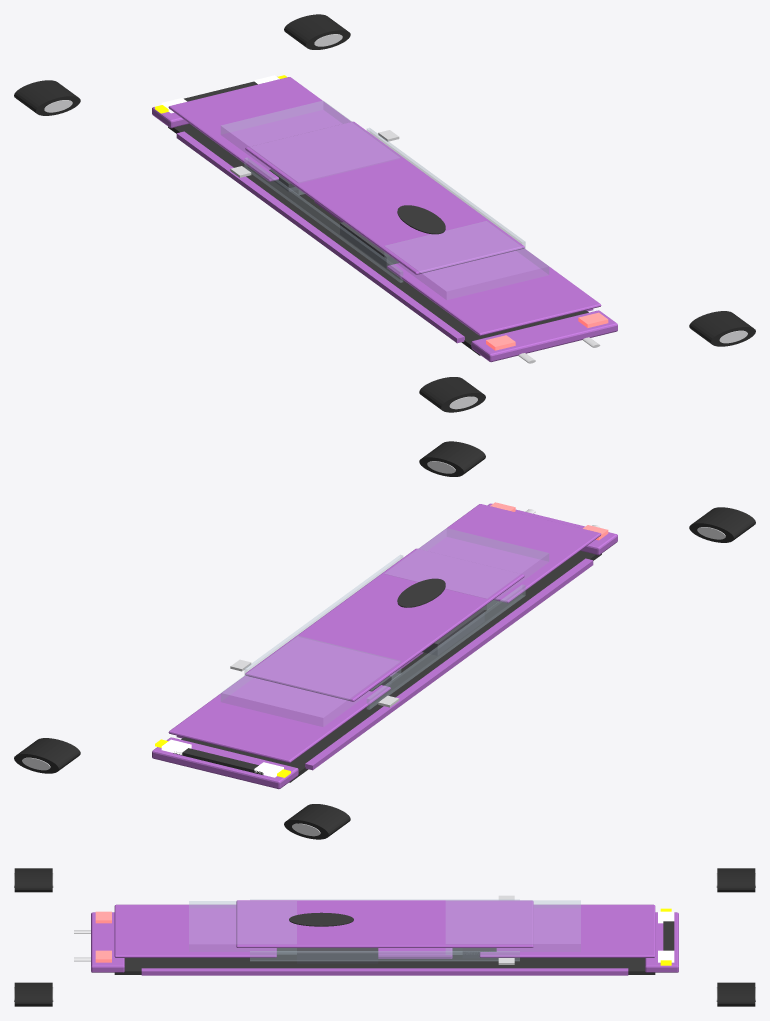
File: racer.glb
The picture shows the model from 3 angles, top to bottom: view 1: azimuth 30°, elevation 25°; view 2: azimuth 150°, elevation 25°; view 3: azimuth 270°, elevation 25°; orthographic projection. The views are drawn at different scales.
Parts seen in each view (by area): view 1: Roof, Trunk, Glass, Hood, RearGlass, Chassis, Skirt_L, Bumper_R, SideGlass_L, Wheel_FR, Wheel_FL, Wheel_RR (+4 smaller); view 2: Roof, Hood, Glass, Trunk, RearGlass, Chassis, Skirt_L, Bumper_F, SideGlass_L, Wheel_RR, Wheel_RL, Wheel_FR (+6 smaller); view 3: Roof, Hood, Trunk, Glass, Chassis, RearGlass, Skirt_R, SideGlass_R, Seat_R, Bumper_R, Wheel_FL, Wheel_FR (+8 smaller).
Part boxes in pixels (x1,y1,x2,y2): Roof: (245,121,524,274); Trunk: (387,248,601,335); Glass: (221,101,400,194); Hood: (168,77,351,181); RearGlass: (384,221,548,299); Chassis: (168,123,588,355); Skirt_L: (176,131,464,343); Bumper_R: (471,310,617,362); SideGlass_L: (244,157,402,282); Wheel_FR: (284,14,350,49); Wheel_FL: (14,80,80,115); Wheel_RR: (689,311,755,346); Roof: (245,548,524,701); Hood: (168,675,390,762); Glass: (221,636,400,726); Trunk: (418,504,601,603); RearGlass: (384,528,548,609); Chassis: (181,550,601,782); Skirt_L: (305,558,593,770); Bumper_F: (152,737,298,789); SideGlass_L: (367,584,525,709); Wheel_RR: (419,441,485,476); Wheel_RL: (689,507,755,542); Wheel_FR: (14,738,80,773); Roof: (236,900,533,947); Hood: (479,904,655,957); Trunk: (114,904,276,957); Glass: (446,900,580,954); Chassis: (114,948,655,974); RearGlass: (189,901,296,954); Skirt_R: (141,968,628,975); SideGlass_R: (250,951,519,960); Seat_R: (297,948,378,963); Bumper_R: (91,912,124,972); Wheel_FL: (717,868,755,892); Wheel_FR: (717,982,755,1006).
Size of the model in its own units: 9.8 by 1.46 by 23.06.
